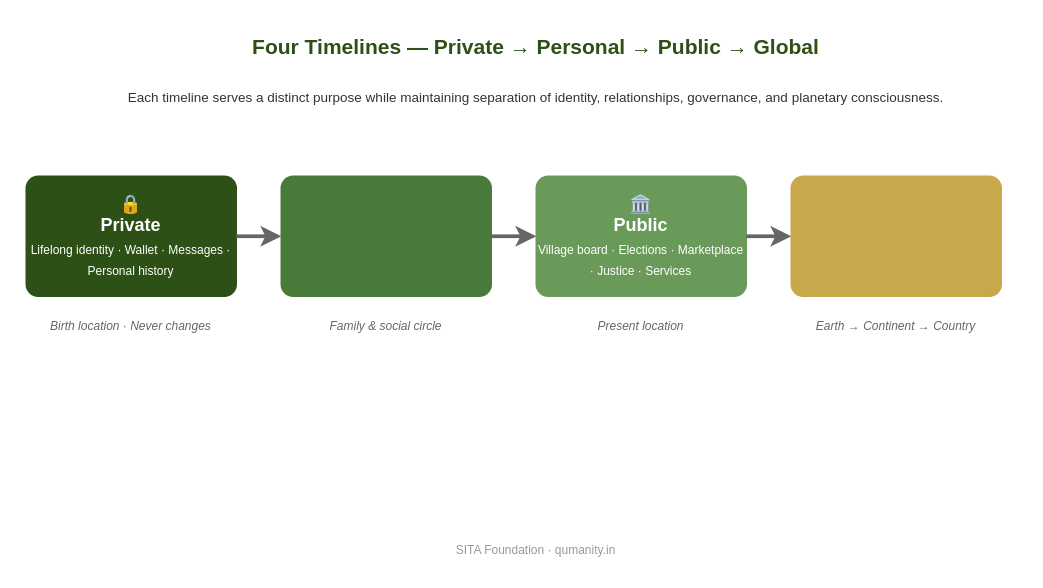
Some shapes in this 1043 by 588 pixel diagram are drawn without their labels. Here are the shapes that lost their labels. From the top down, the box of each, then its label:
(280, 175, 491, 296): 👨‍👩‍👧‍👦 Personal Family tree · Social connections · Relationships
(790, 175, 1001, 296): 🌍 Global Planetary statistics · Global collective board · Consciousness
